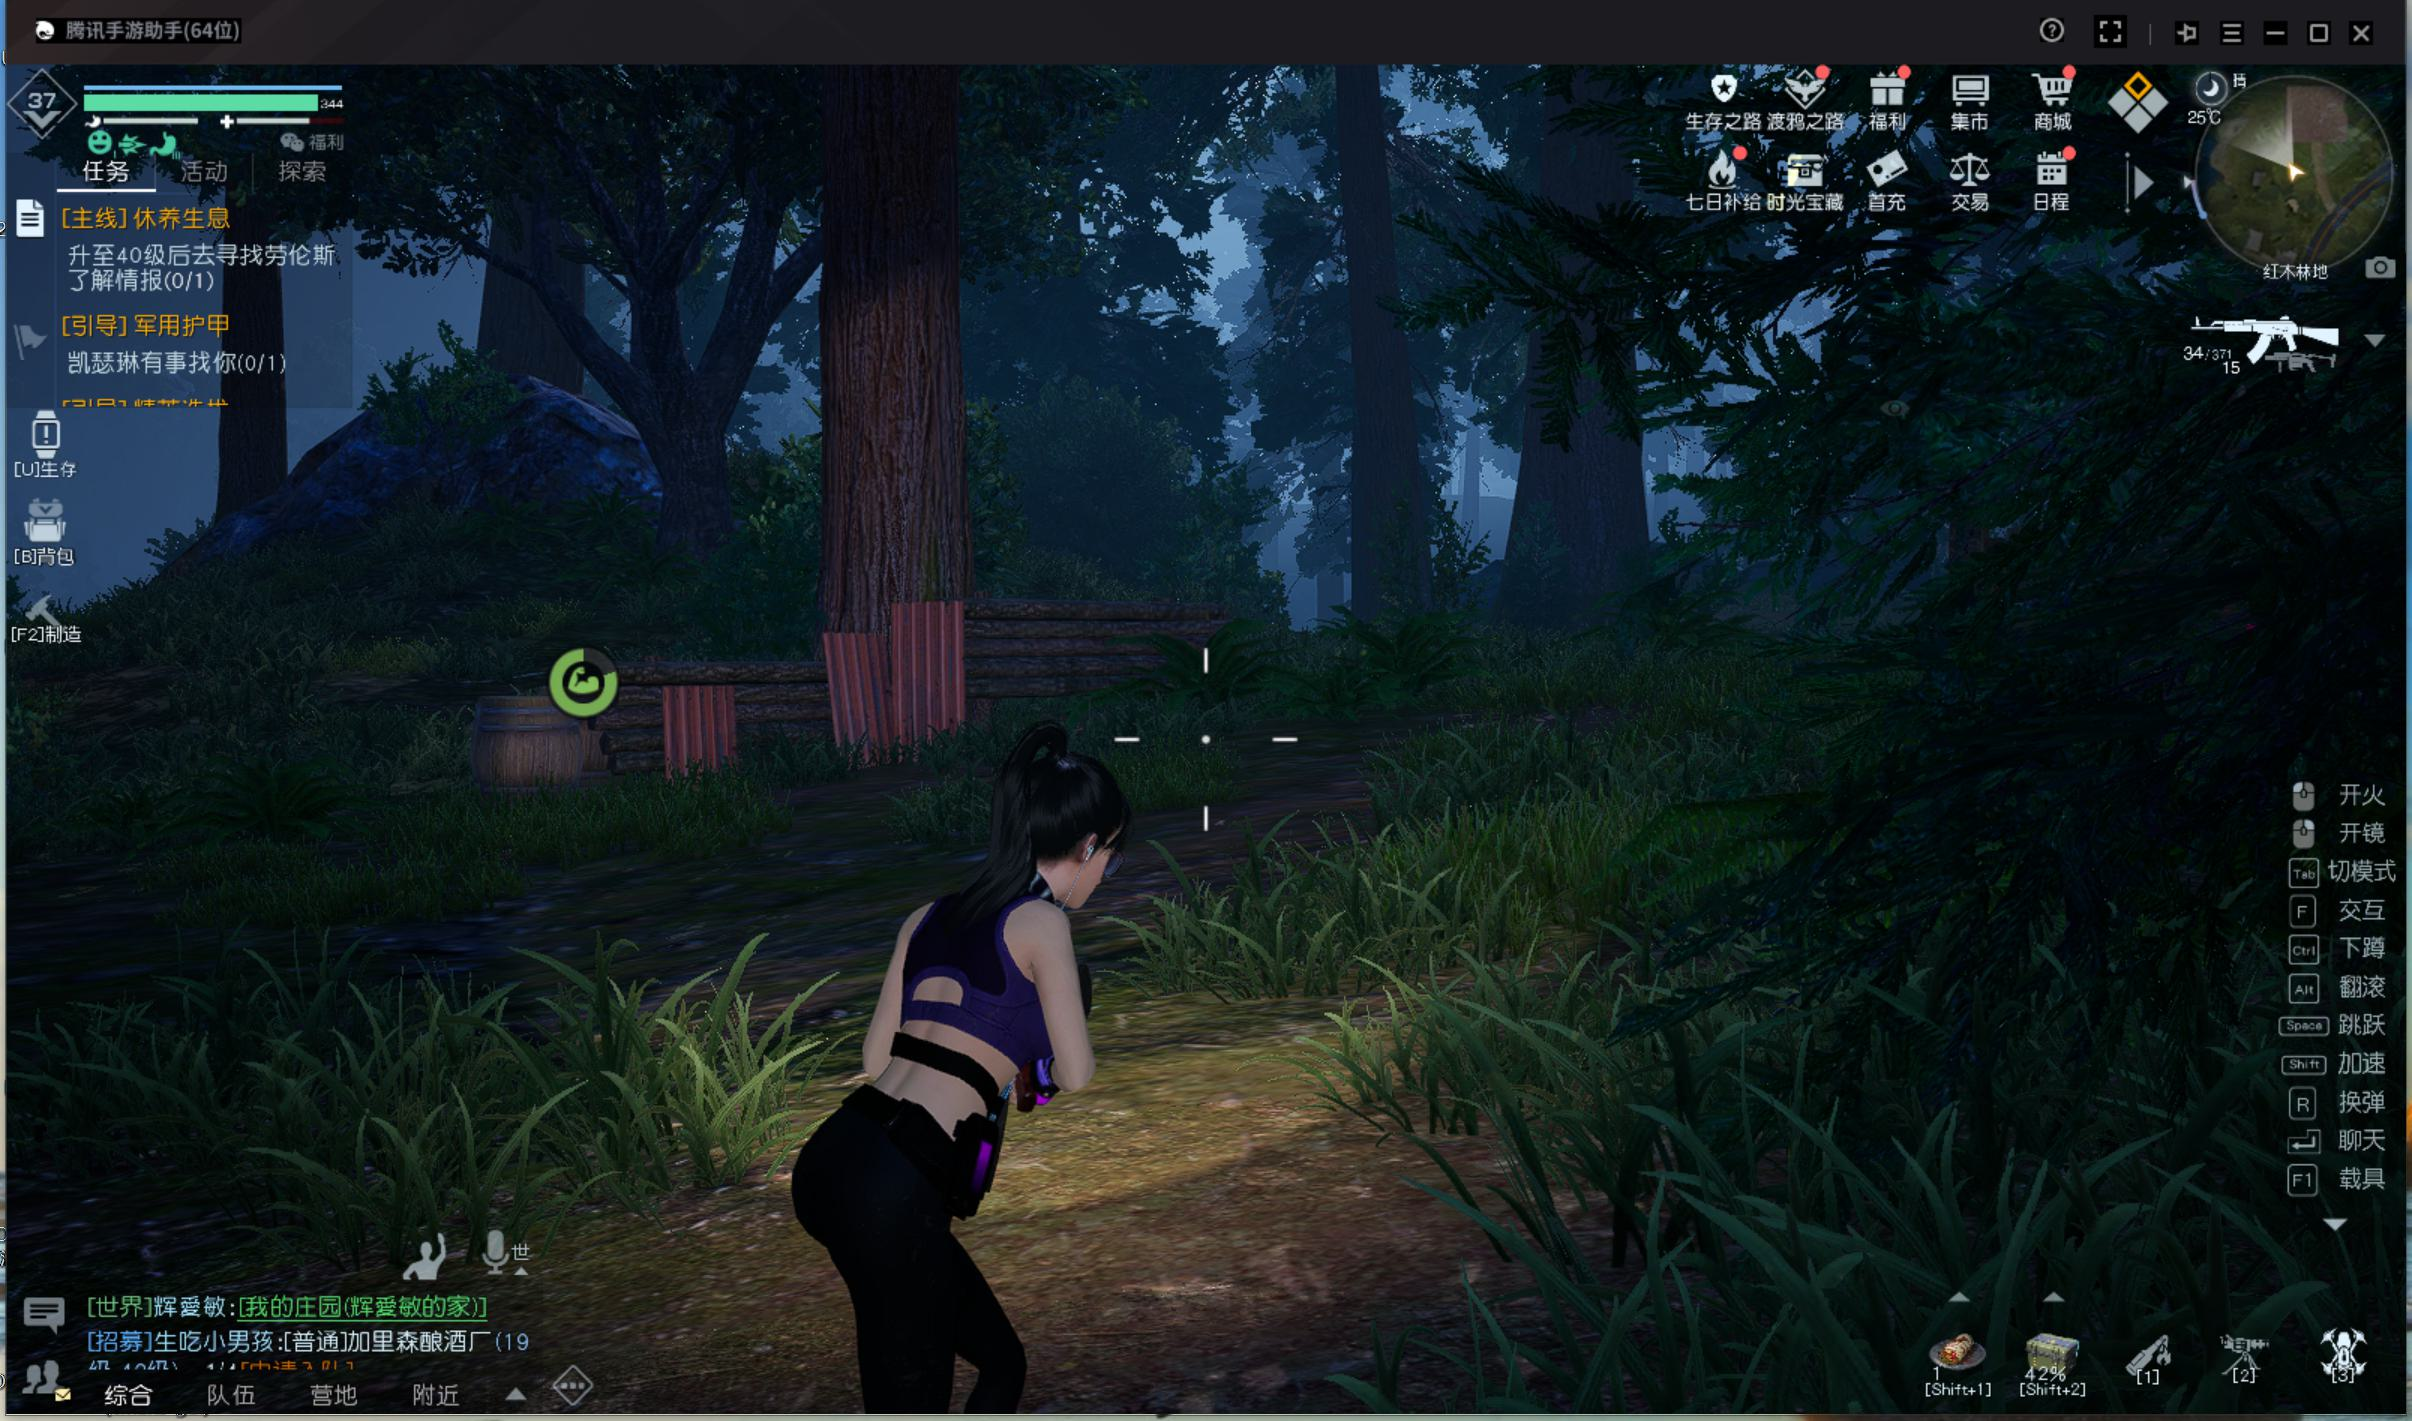tree: (802, 198, 996, 716), (1324, 156, 1443, 670), (1517, 293, 1651, 668), (203, 206, 303, 509)
